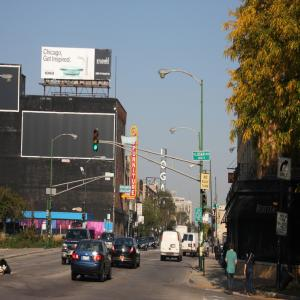Vehicle-registration-plate: (84, 257, 90, 262), (120, 256, 125, 260), (71, 252, 74, 255)
